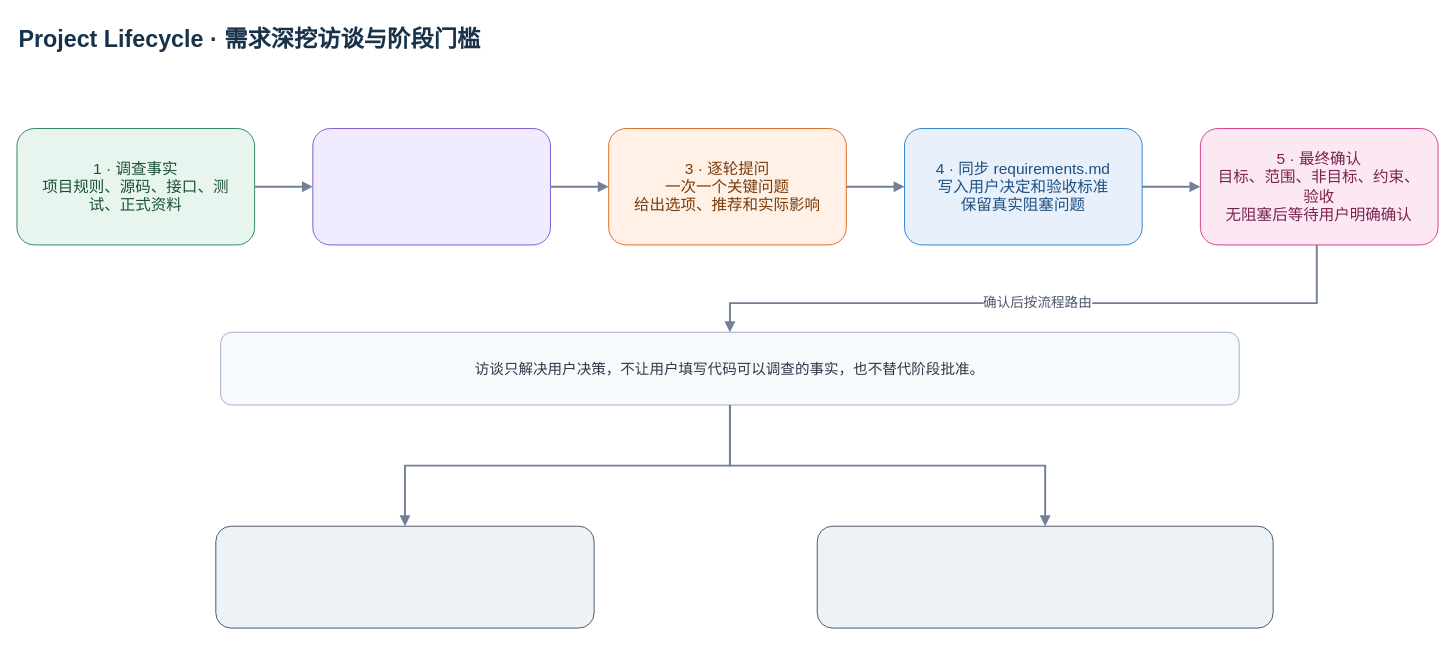
The diagram is 1455 pixels wide and 645 high, and some of its shapes have lost their labels. Each missing label, with the centre of its shape:
"2 · 建立决策树 区分事实、用户决定、实现选择 只保留影响交付结果的节点" belongs at pixel 431 186.
"compact 需求确认 → tasks.md 草稿 → 任务计划确认" belongs at pixel 404 576.
"full 需求确认 → proposal.md → design.md → tasks.md 每个阶段都需要明确批准" belongs at pixel 1044 576.
